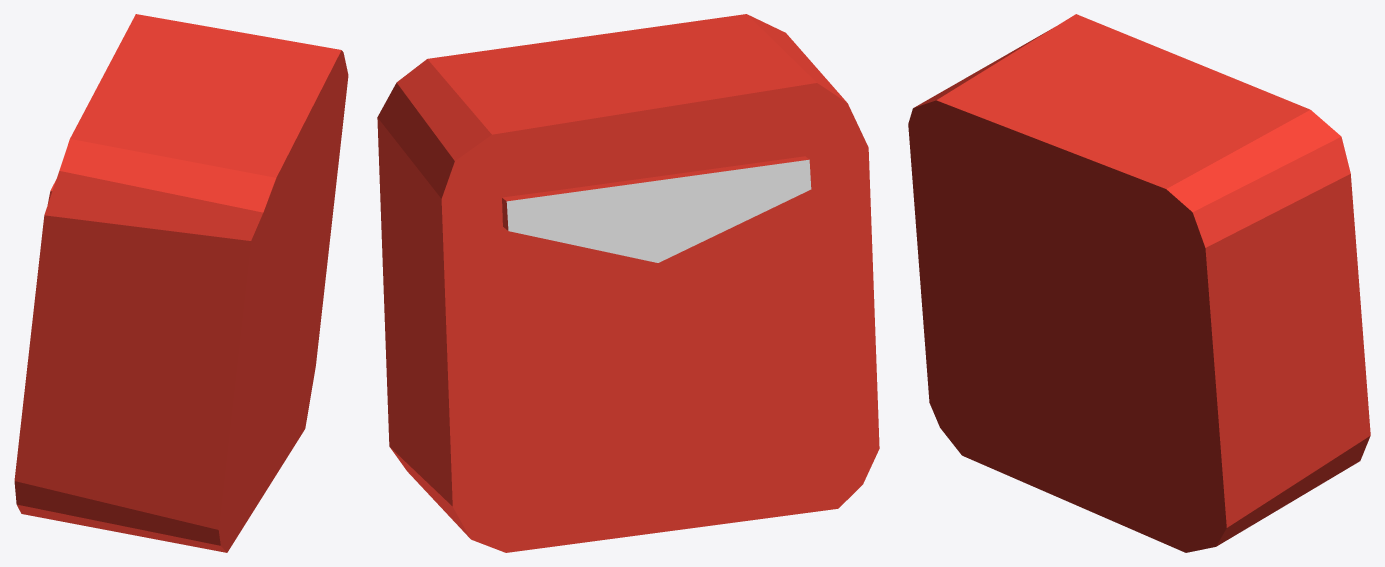
Rendered from beat-saber-block-red-by-tipatat-chennavasin-9qlSf-a3hxM.glb.
The picture shows the model from 3 angles, left to right: view 1: azimuth 30°, elevation 25°; view 2: azimuth 150°, elevation 25°; view 3: azimuth 270°, elevation 25°; orthographic projection. The views are drawn at different scales.
Parts seen in each view (by area): view 1: group275115095; view 2: group275115095; view 3: group275115095.
Boxes of the visible parts, left/top/right/bottom form: group275115095: left=14, top=14, right=348, bottom=552; group275115095: left=377, top=14, right=879, bottom=552; group275115095: left=908, top=14, right=1370, bottom=552.
Bounding box in the file's own units: 0.2012 × 0.1927 × 0.2028.
